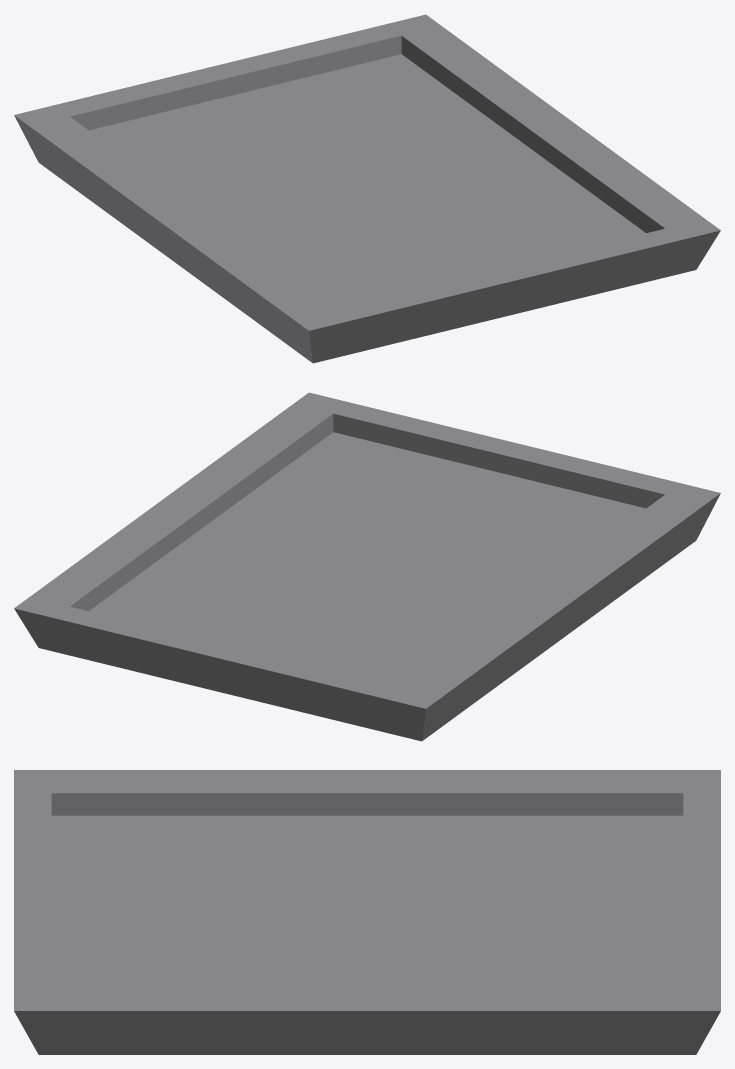
Rendered from tree base.fbx.
3 views of the same model, one above another, from view 1: azimuth 30°, elevation 25°; view 2: azimuth 150°, elevation 25°; view 3: azimuth 270°, elevation 25° (orthographic). The views are drawn at different scales.
Parts seen in each view (by area): view 1: Cube.008; view 2: Cube.008; view 3: Cube.008.
Part boxes in pixels (bbox=[...]): Cube.008: bbox=[14, 14, 720, 363]; Cube.008: bbox=[14, 392, 720, 741]; Cube.008: bbox=[14, 770, 720, 1054].
Bounding box in the file's own units: 57.05 × 5.78 × 70.74.
Materials: 2 (2 with a texture image).
